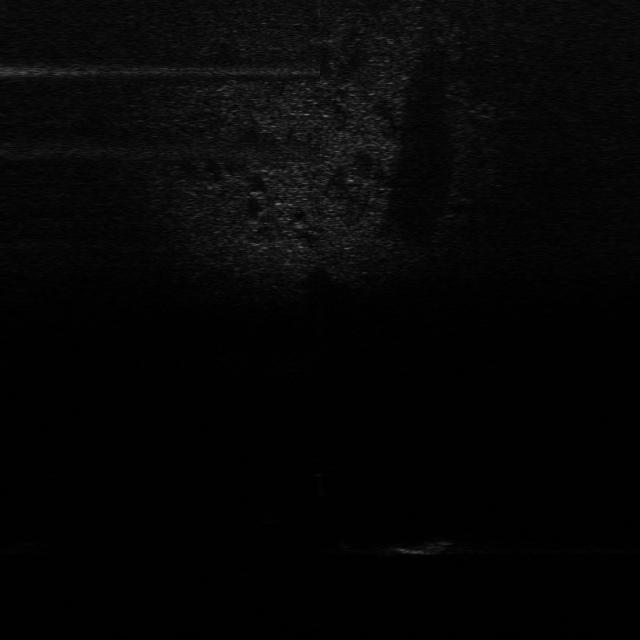metal bucket: (336, 518, 460, 558)
